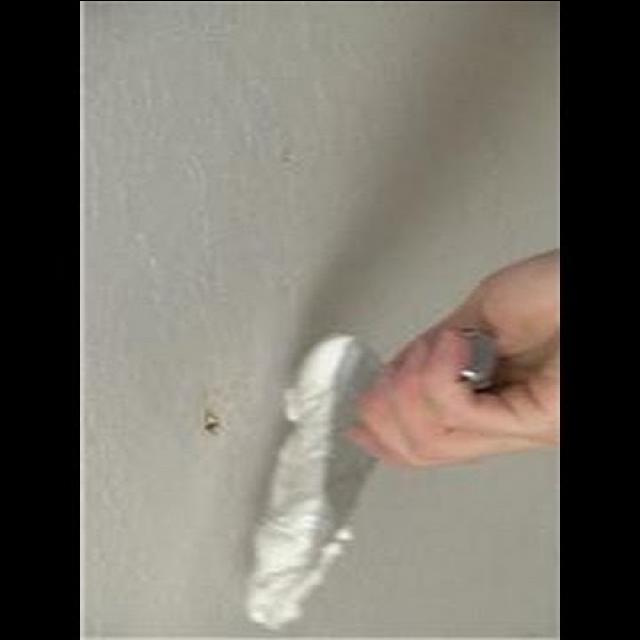Crack: (202, 415, 223, 432)
